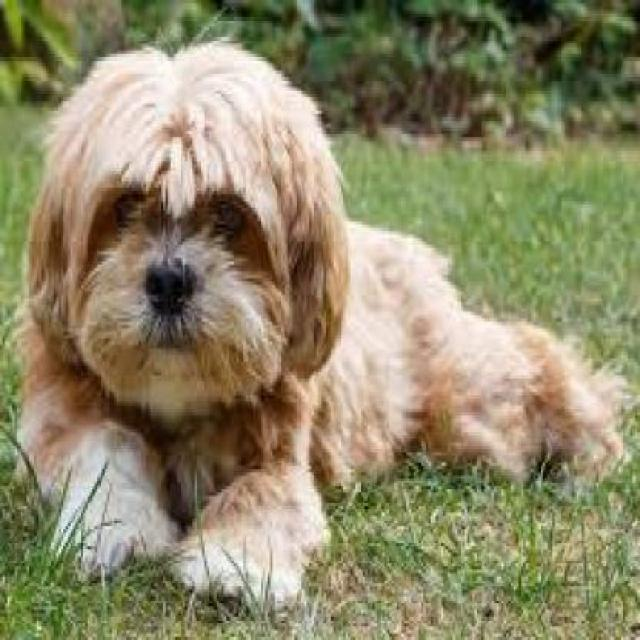animals: (7, 27, 628, 611)
